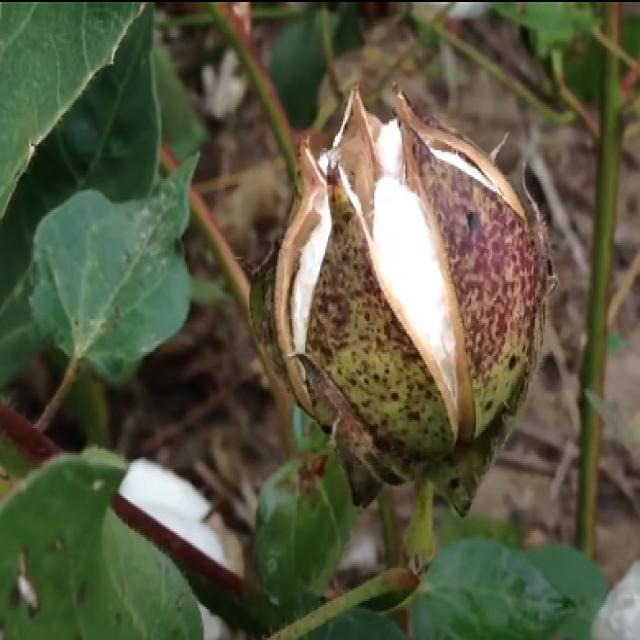Split Cotton Boll: (258, 84, 550, 454)
